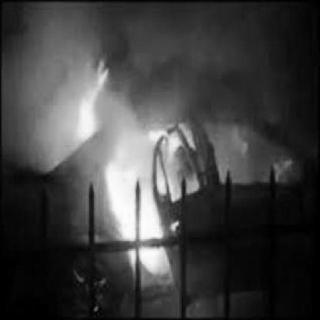Fire: (70, 60, 210, 273)
